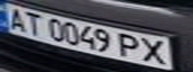0: (42, 16, 66, 42), (60, 19, 81, 46)
4: (78, 24, 96, 51)
9: (93, 26, 115, 54)
A: (3, 6, 30, 33)
P: (115, 30, 145, 60)
T: (21, 10, 48, 36)
X: (136, 35, 172, 66)
